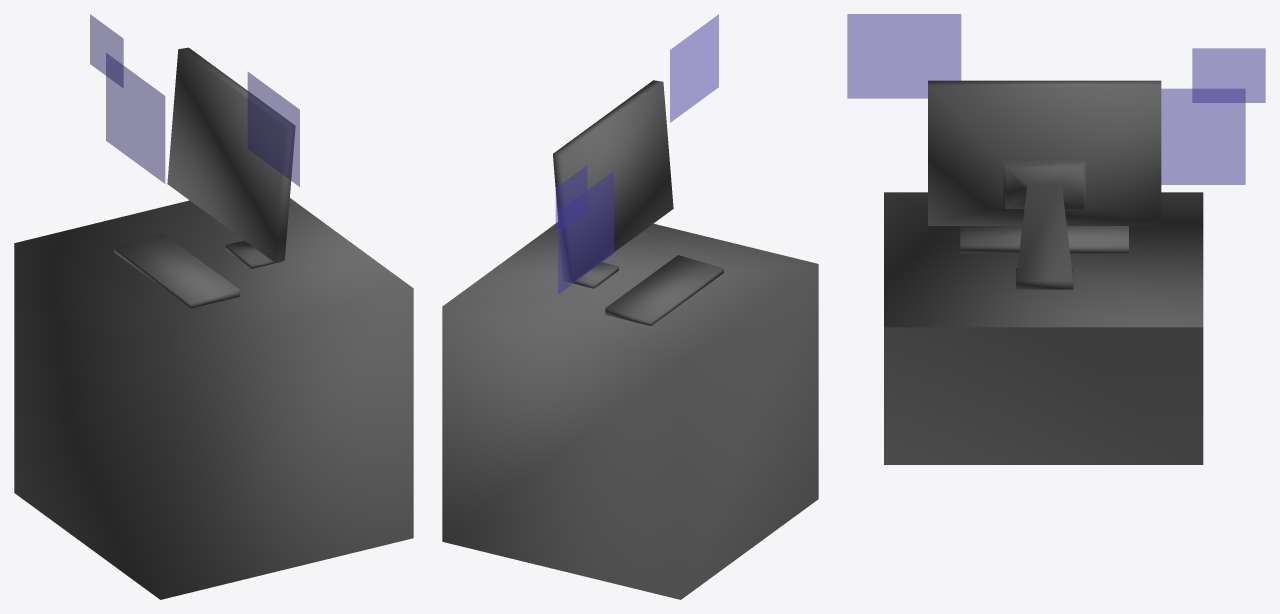
Rendered from computer_cyber.FBX.
3 views of the same model, side by side, from view 1: azimuth 30°, elevation 25°; view 2: azimuth 150°, elevation 25°; view 3: azimuth 270°, elevation 25° (orthographic). The views are drawn at different scales.
Visible parts, largest first — view 1: computer_cyber, computer001, Plane004, keyboard002, Plane006, Plane005; view 2: computer_cyber, computer001, Plane004, keyboard002, Plane006, Plane005; view 3: computer_cyber, computer001, Plane006, Plane004, Plane005, keyboard002.
Boxes of the visible parts, x1,y1,x2,y2 form: computer_cyber: (14,198,413,599); computer001: (167,47,295,268); Plane004: (106,53,165,183); keyboard002: (114,233,239,308); Plane006: (247,72,299,186); Plane005: (90,14,123,88); computer_cyber: (442,222,818,599); computer001: (553,80,673,288); Plane004: (558,171,613,294); keyboard002: (605,255,723,325); Plane006: (670,14,718,122); Plane005: (555,166,587,234); computer_cyber: (884,192,1203,464); computer001: (928,80,1161,289); Plane006: (847,14,961,98); Plane004: (1161,88,1245,184); Plane005: (1192,48,1265,102); keyboard002: (960,226,1128,253).
Bounding box in the file's own units: 2.53 × 4.51 × 3.32.
